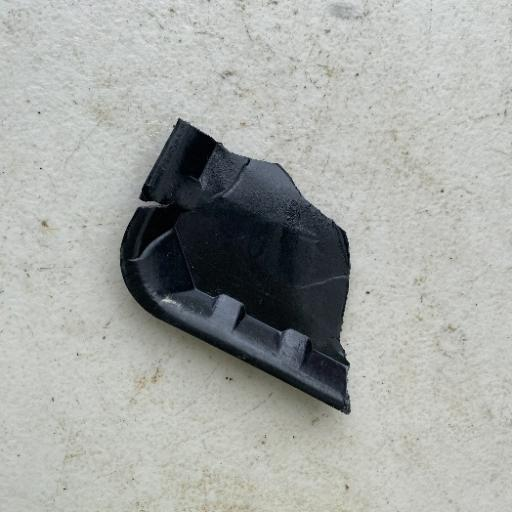Plastic: (116, 114, 357, 416)
